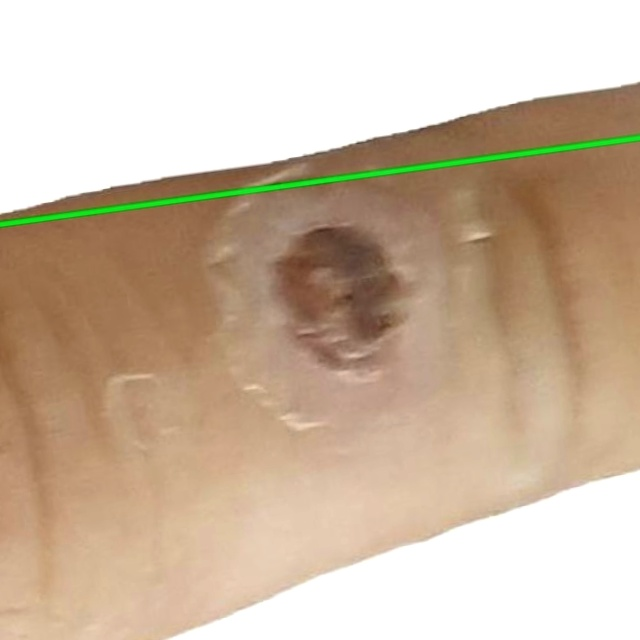Scabies: (0, 0, 639, 223)
